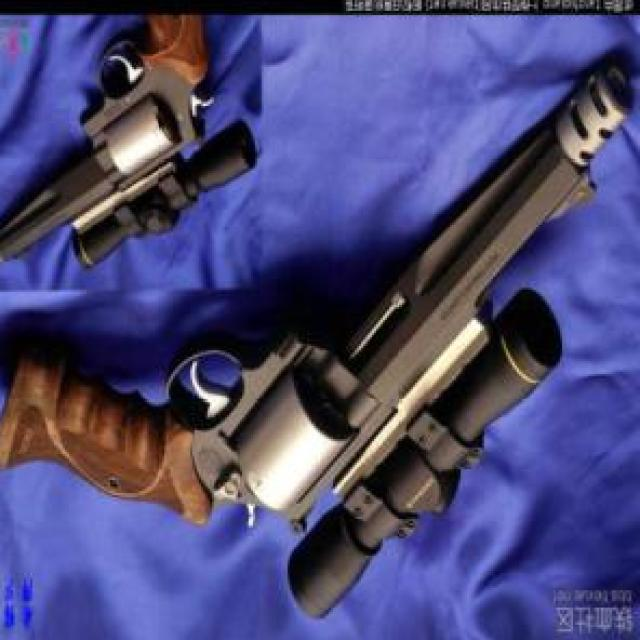pistol: (0, 54, 625, 569), (0, 15, 255, 260)
